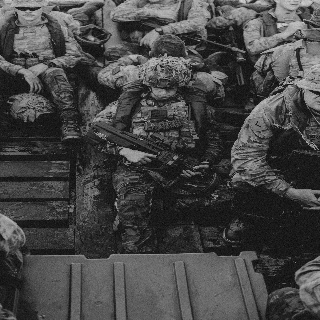rifle: (85, 119, 218, 187)
